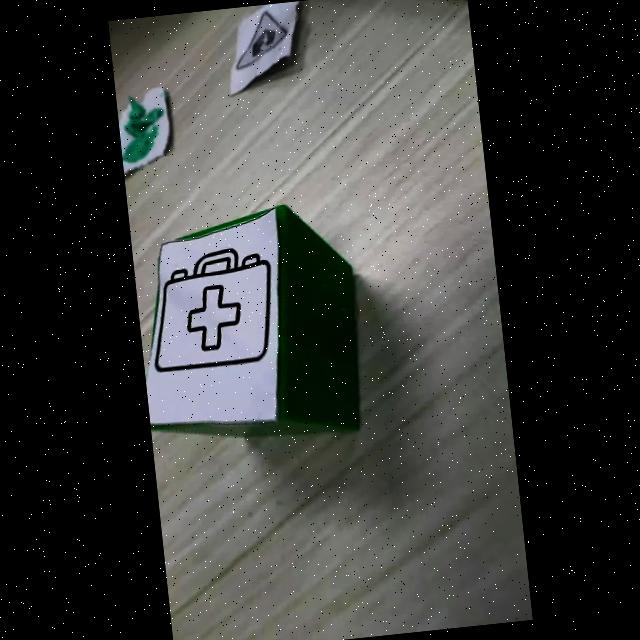Medkit: (154, 247, 272, 373)
